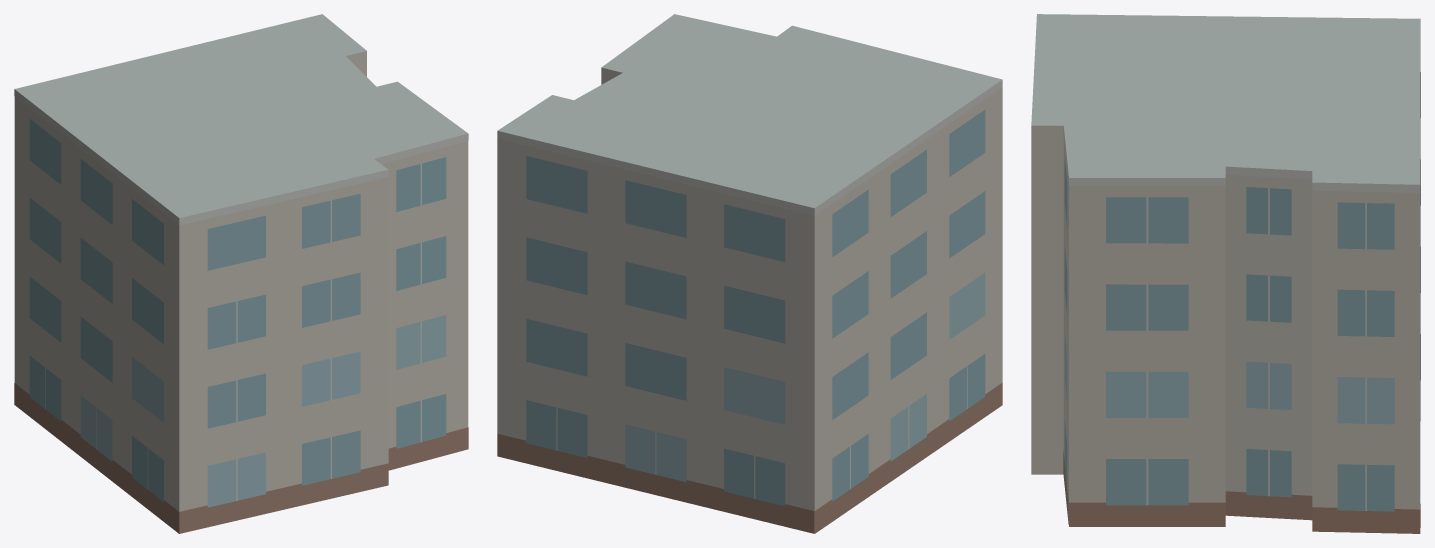
File: survey-upis-32576722.glb
3 views of the same model, side by side, from view 1: azimuth 30°, elevation 25°; view 2: azimuth 150°, elevation 25°; view 3: azimuth 270°, elevation 25° (orthographic). The views are drawn at different scales.
Visible parts, largest first — view 1: survey-upis-32576722.tmp; view 2: survey-upis-32576722.tmp; view 3: survey-upis-32576722.tmp.
Part boxes in pixels (x1,y1,x2,y2): survey-upis-32576722.tmp: (14, 14, 468, 533); survey-upis-32576722.tmp: (497, 14, 1002, 533); survey-upis-32576722.tmp: (1031, 14, 1420, 533).
Bounding box in the file's own units: 11.03 × 10.5 × 10.63.
